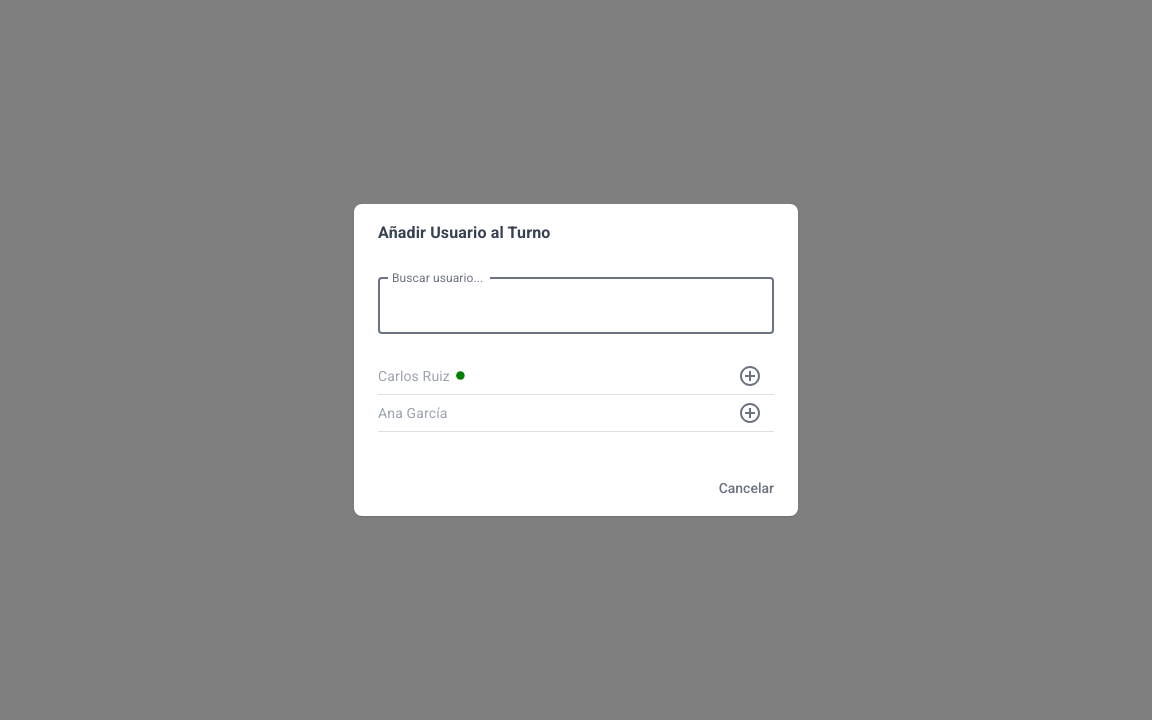
Test: AddUserToShiftDialog › should filter users by search term
Type "Ana" into the search field labelled "Buscar usuario...".
click(576, 306); type("Ana")  # box [378,278,774,334]
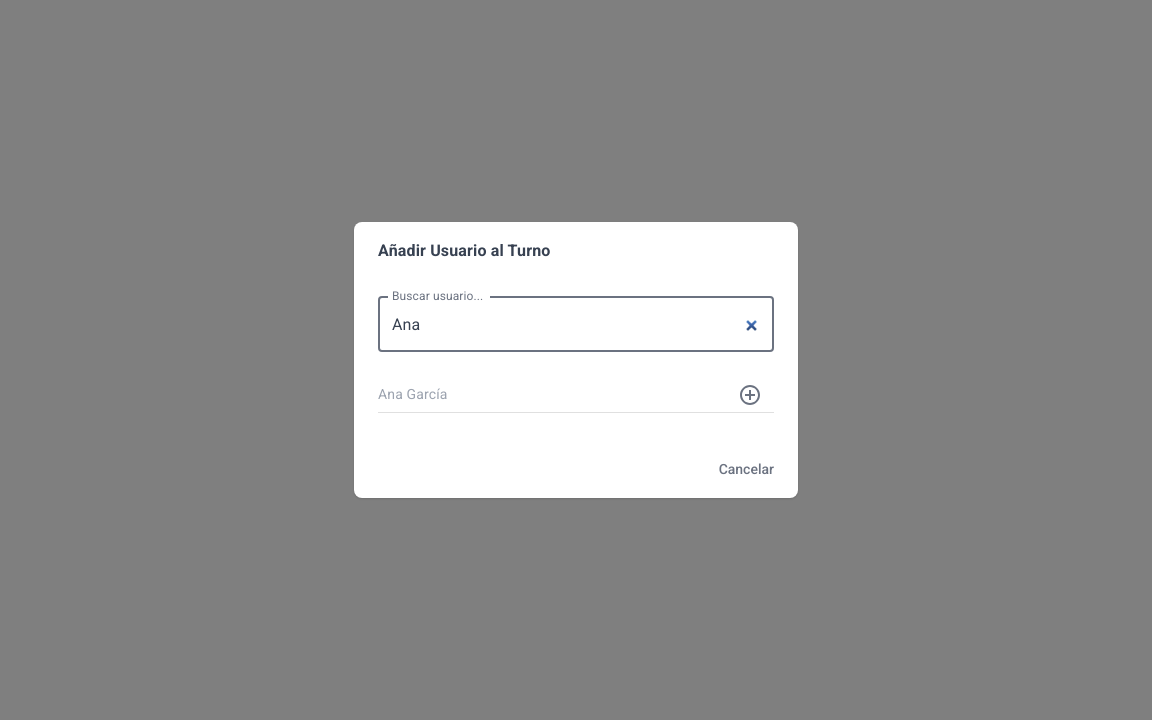
Expected: the text "Ana García" is shown, [378,386,448,402]
Expected: the text "Carlos Ruiz" is gone
